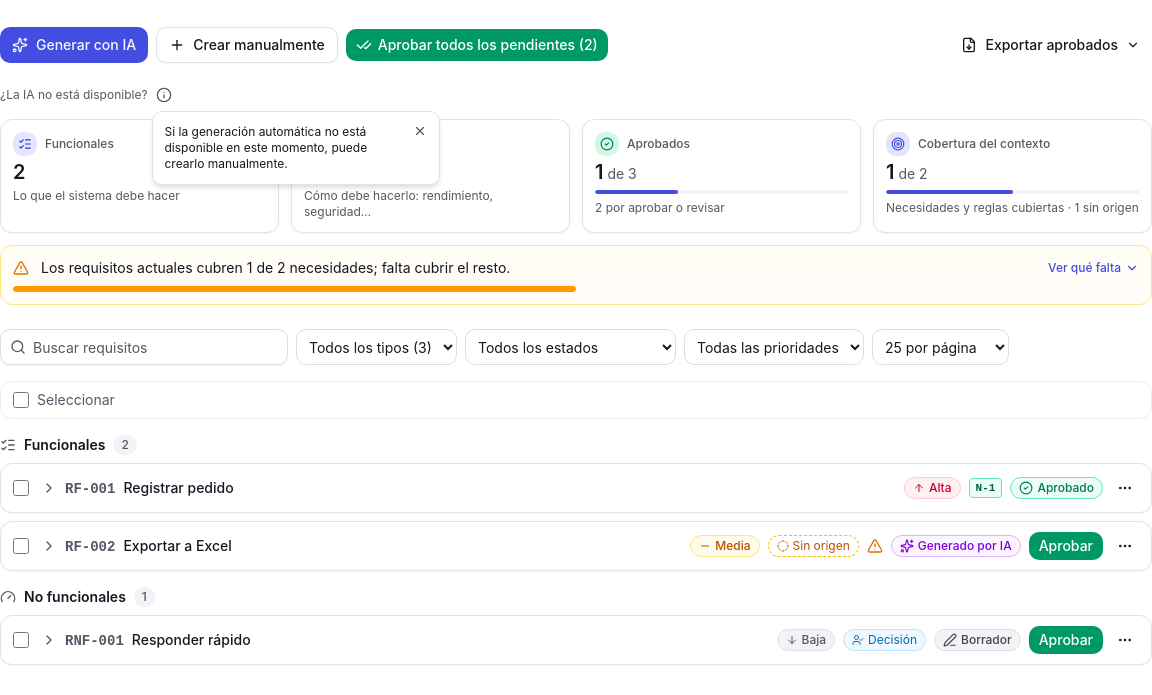
Test: Requirements list › opens a row to show its origin and everything else
Click the button "RF-001 Registrar pedido".
click(90, 488)  # box [41,478,892,498]
(page scrolled)
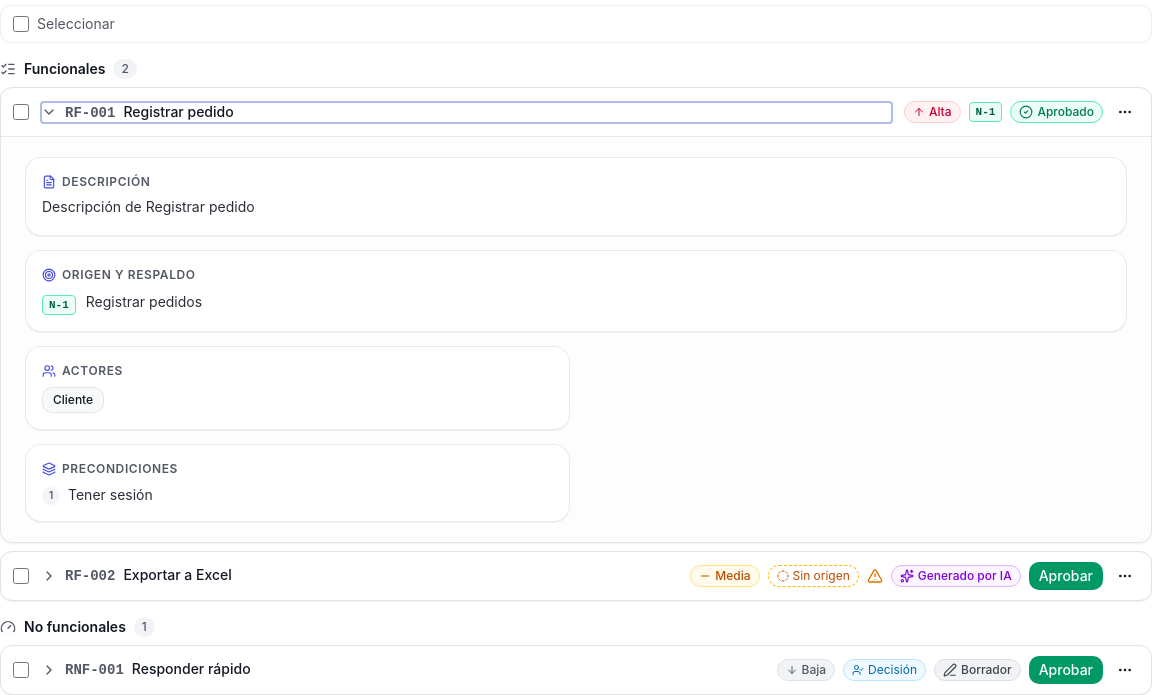
Check: the text "Descripción de Registrar pedido" is shown, box [42,198,255,215]
Check: the text "Registrar pedidos" is shown, box [86,291,202,314]
Check: the text "Tener sesión" is shown, box [68,486,153,503]
A requirement without origin says so and offers to complete it.
Click the button "RF-002 Exportar a Excel".
click(90, 576)  # box [41,565,678,586]
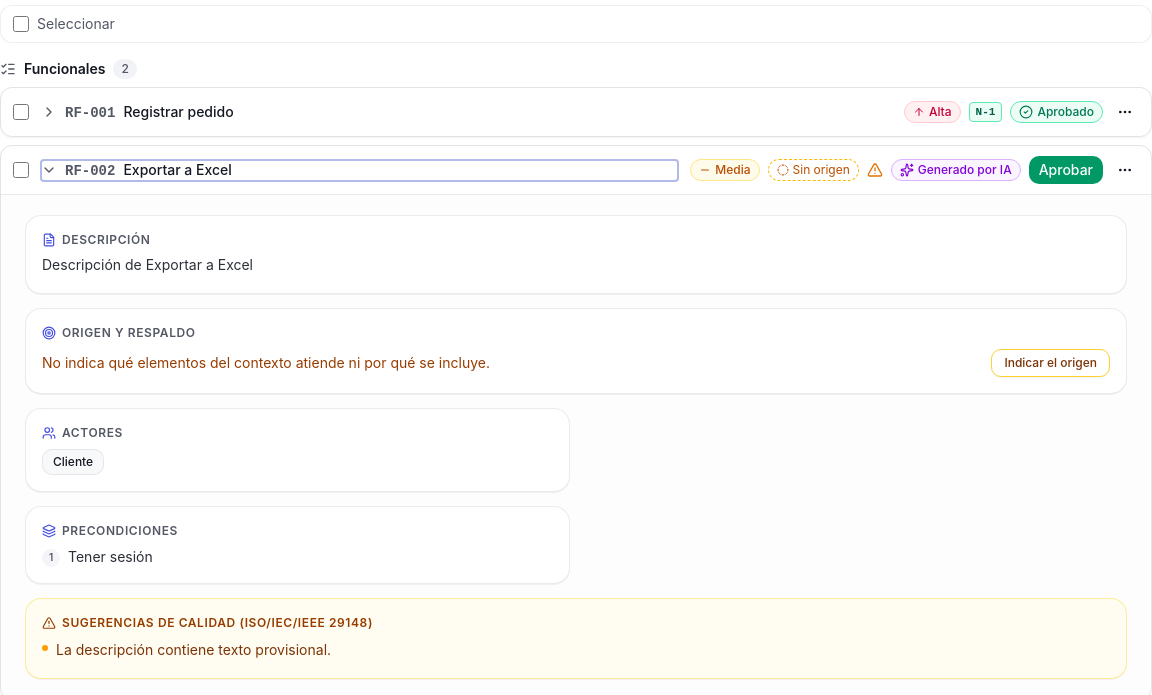
Check: the picture named "1 sugerencia de calidad" is shown, box [867,162,883,178]
Check: the button "Indicar el origen" is shown, box [991,349,1110,377]
